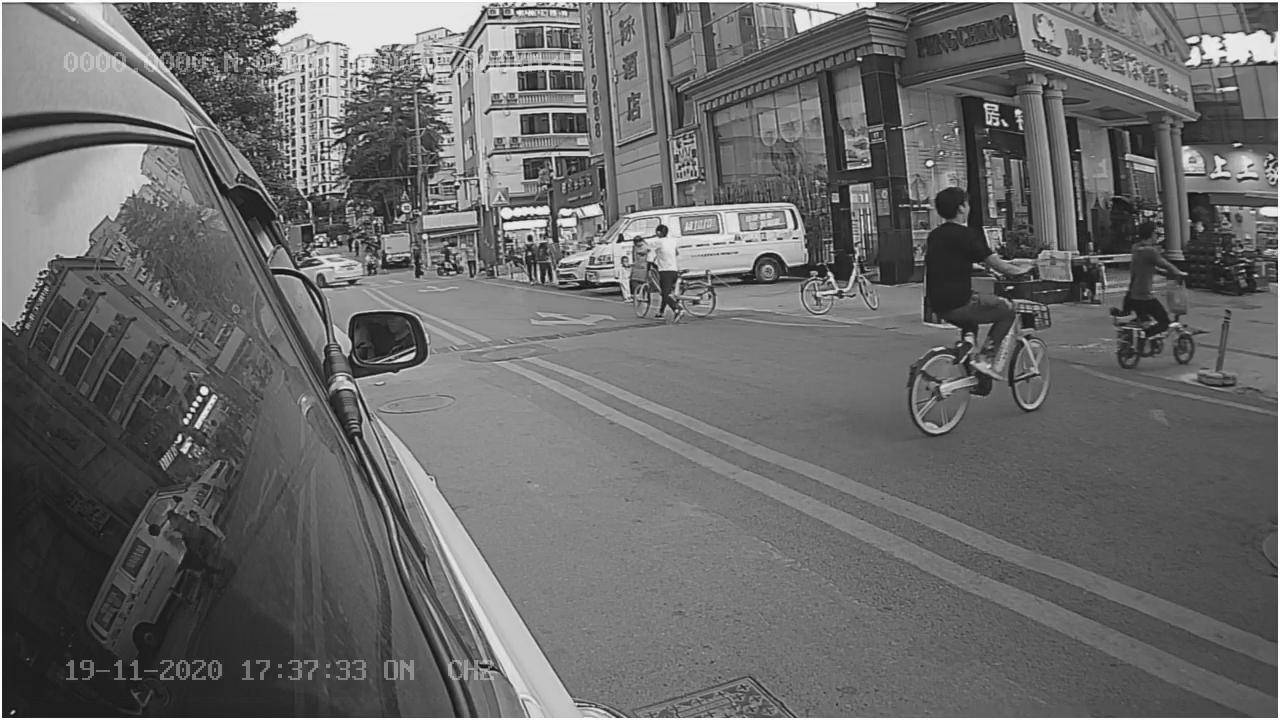person: (915, 179, 1006, 331)
